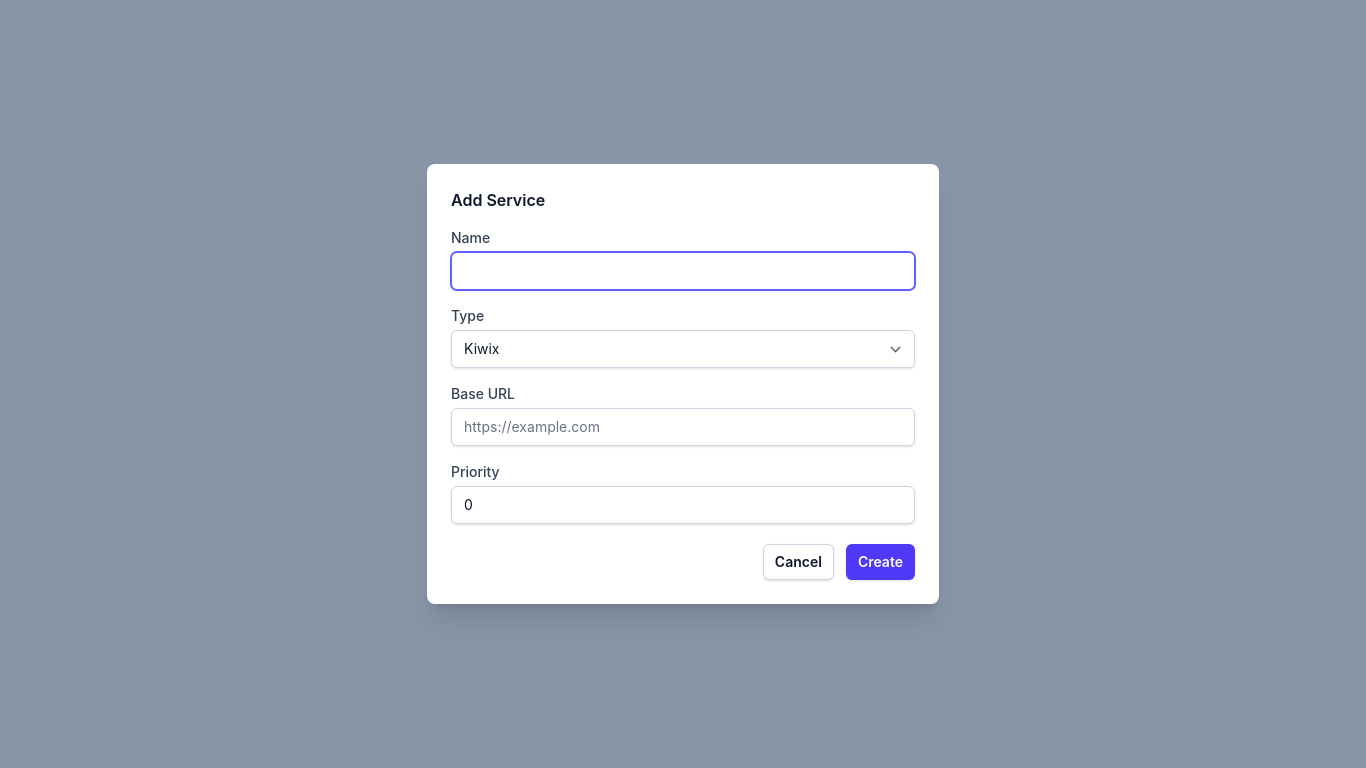
ExternalServiceModal › shows validation error when base URL is empty on submit
In the field with id "service-name": (683, 271) [451, 252, 915, 290], type "Test Service"
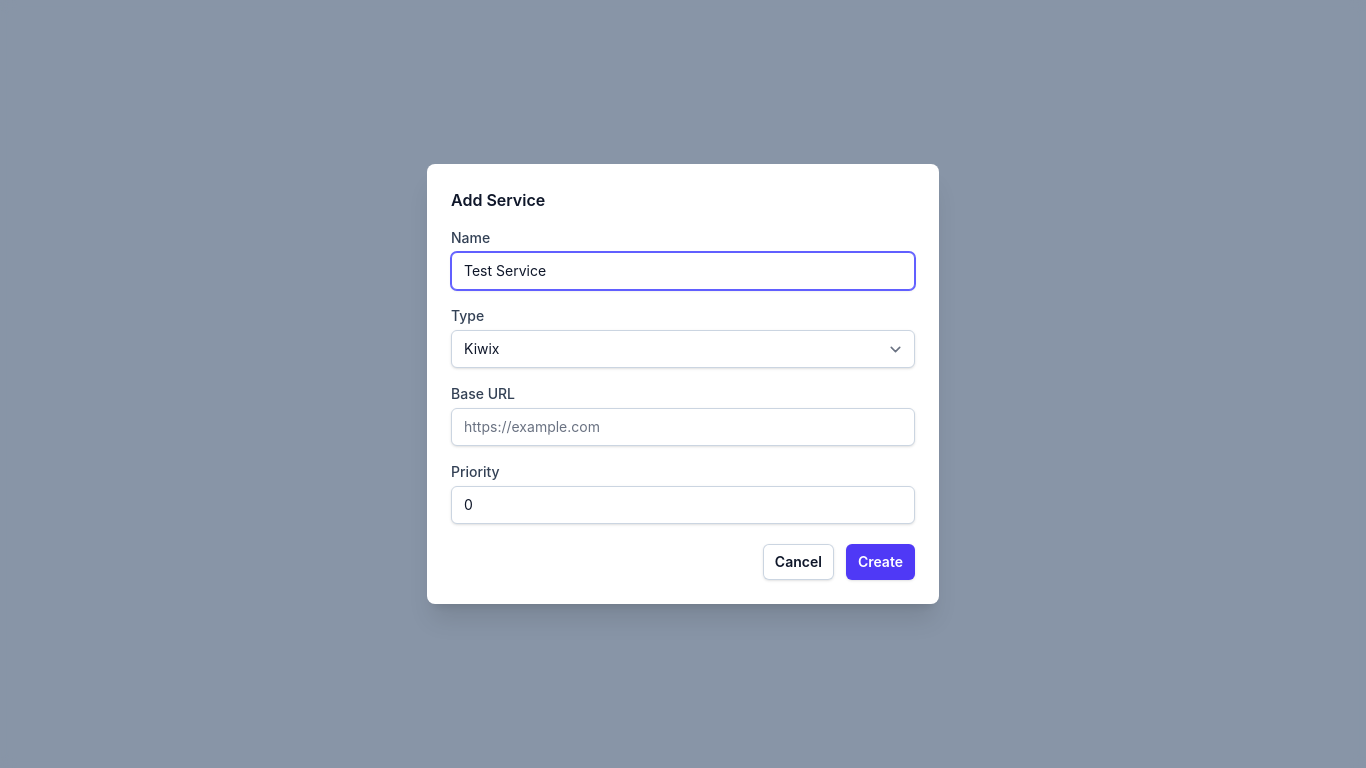
Submit the form, box [451, 228, 915, 580]
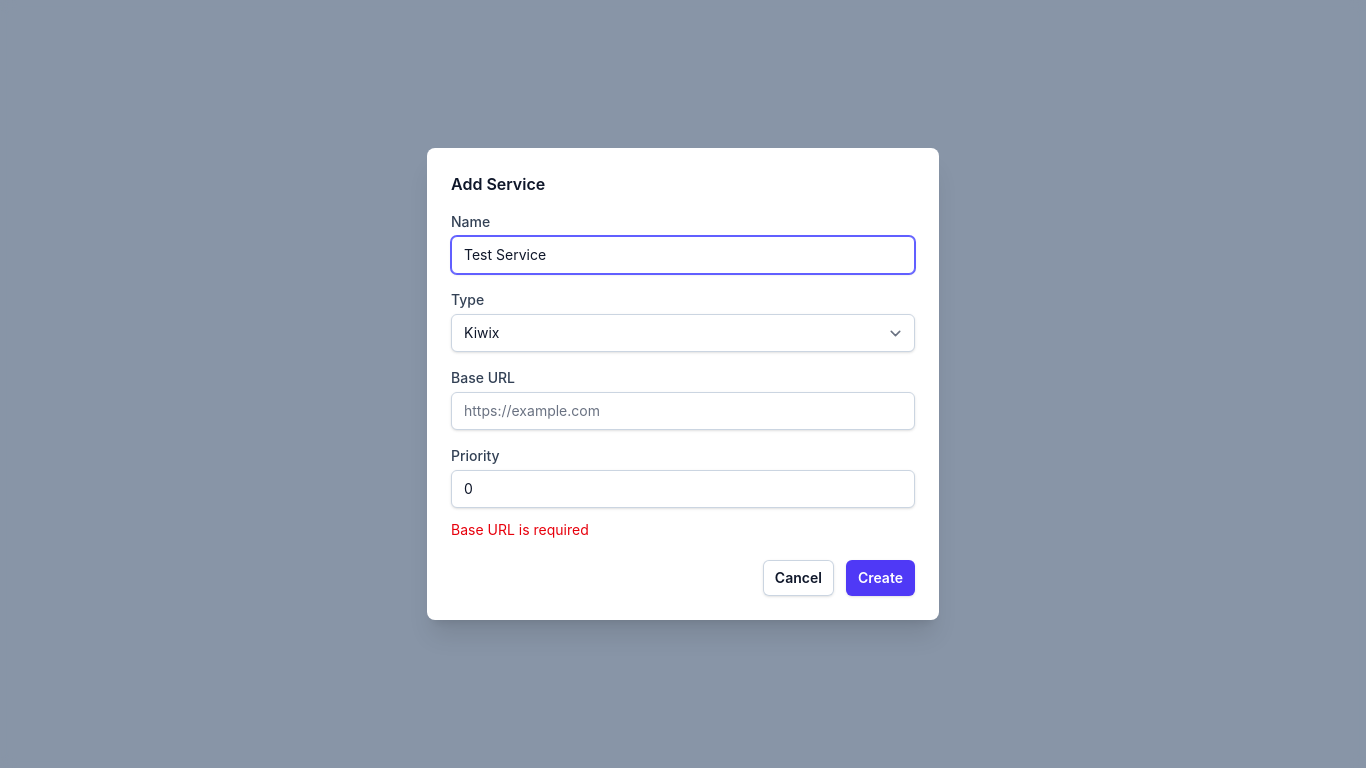
Expected: the text "Base URL is required" is shown, [451, 521, 589, 538]
